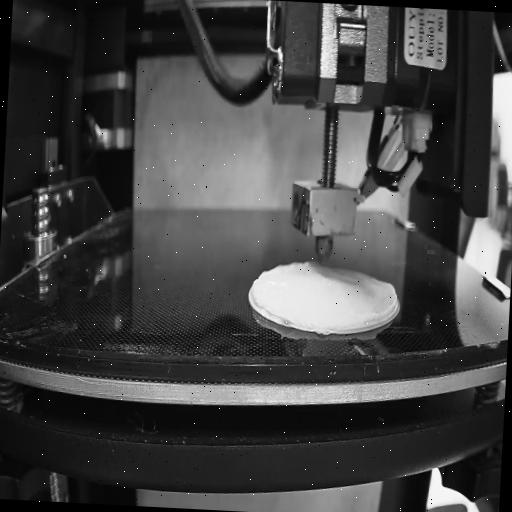over_extrusion: (250, 256, 316, 310), (370, 274, 400, 332)
